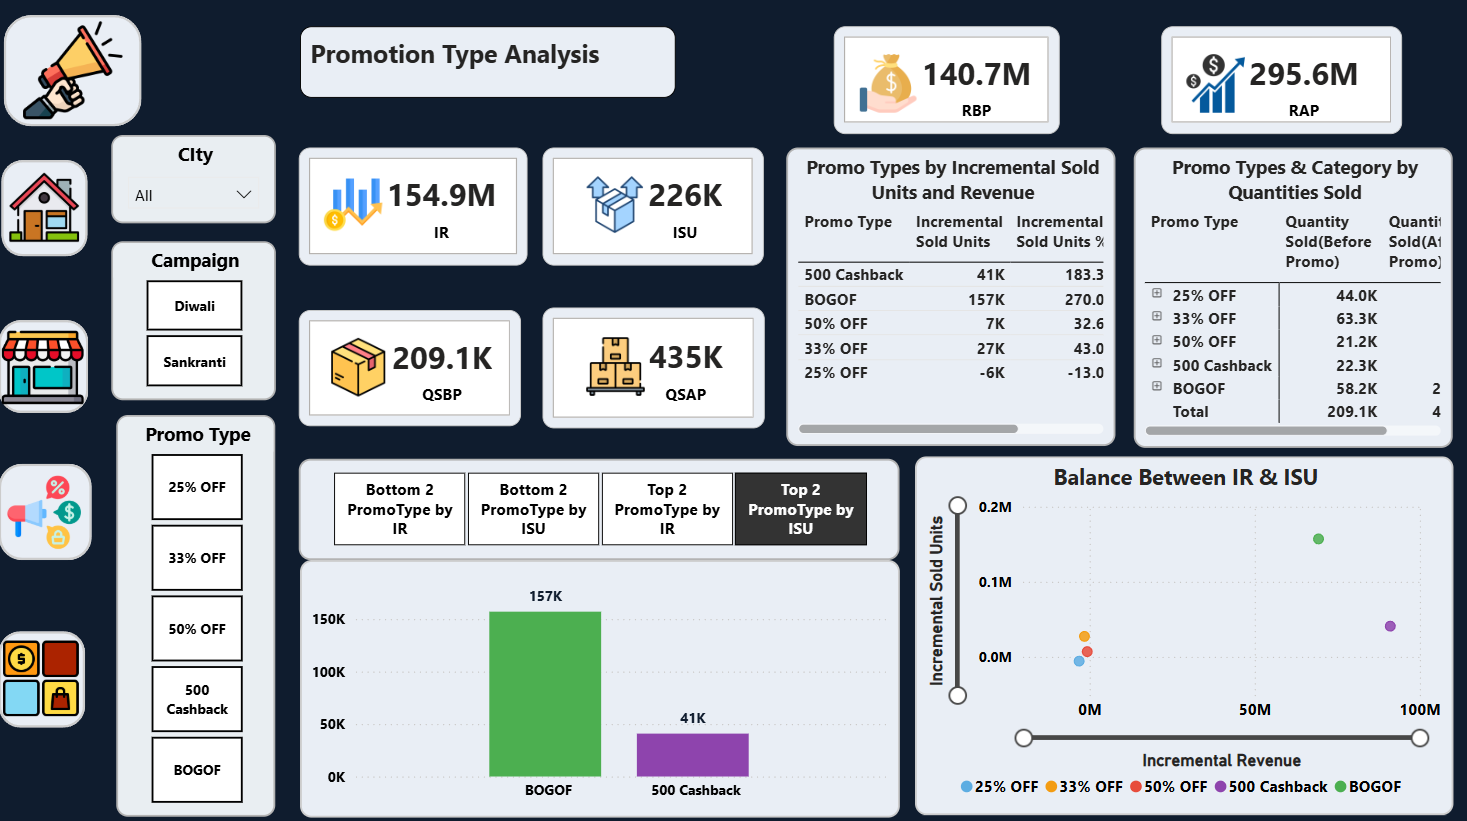

This screenshot's page, from the dashboard's own definition file:
{"tool":"powerbi","page":{"name":"Promotional Analysis","canvas":[1280,720],"ordinal":2},"visuals":[{"type":"shape","box":[11.4,17.1,118.6,95.7],"z":0,"group":"g2"},{"type":"cardVisual","fields":{"Data":["Project Measures.Revenue Before"]},"box":[725.7,27.1,194.3,92.9],"z":0},{"type":"slicer","fields":{"Values":["PromoViewSelector.ViewType"]},"box":[265.7,398.6,517.1,86.9],"z":0,"group":"g1"},{"type":"cardVisual","fields":{"Data":["Project Measures.Revenue After Promo"]},"box":[1007.1,27.1,207.1,92.9],"z":1000},{"type":"columnChart","fields":{"Category":["fact_events.promo_type"],"Y":["Project Measures.Dynamic Value"]},"box":[266.9,485.5,516,221.6],"z":1000,"group":"g1"},{"type":"cardVisual","fields":{"Data":["Project Measures.Incremental Revenue"]},"box":[265.7,131.4,197.1,101.4],"z":2000},{"type":"cardVisual","fields":{"Data":["Project Measures.Quantity Sold(Before Promo)"]},"box":[265.7,271.4,191.4,100],"z":3000},{"type":"cardVisual","fields":{"Data":["Project Measures.Quantity Sold After Promo"]},"box":[475.7,268.6,191.4,104.3],"z":4000},{"type":"cardVisual","fields":{"Data":["Project Measures.Incremental Sold Units"]},"box":[475.7,131.4,190,101.4],"z":5000},{"type":"tableEx","title":"Promo Types by Incremental Sold Units and Revenue","fields":{"Values":["fact_events.promo_type","Project Measures.Incremental Sold Units","Project Measures.Incremental Sold Units %","Project Measures.Incremental Revenue"]},"box":[685.3,131.5,283.5,257],"z":6000},{"type":"pivotTable","title":"Promo Types & Category by Quantities Sold","fields":{"Rows":["fact_events.promo_type","dim_products.category"],"Values":["Project Measures.Quantity Sold(Before Promo)","Project Measures.Quantity Sold(After Promo)"]},"box":[984.3,131.4,274.3,258.6],"z":7000},{"type":"scatterChart","title":"Balance Between IR & ISU","fields":{"X":["Project Measures.Incremental Revenue"],"Y":["Project Measures.Incremental Sold Units"],"Series":["fact_events.promo_type"]},"box":[795.7,397.1,462.9,308.6],"z":8000},{"type":"slicer","title":"Promo Type","fields":{"Values":["fact_events.promo_type"]},"box":[108.6,361.4,137.1,345.7],"z":9000},{"type":"slicer","title":"Campaign","fields":{"Values":["dim_campaign.campaign_name"]},"box":[104.3,211.4,141.4,137.1],"z":10000},{"type":"textbox","box":[267.1,27.1,322.9,61.4],"z":11000},{"type":"image","box":[20.4,17.1,101.6,95.7],"z":12000,"group":"g2"},{"type":"slicer","title":"CIty","fields":{"Values":["dim_stores.city"]},"box":[104.3,120,141.4,75.7],"z":12000},{"type":"group","id":"g1","title":"Group 1","box":[265.7,398.6,517.1,308.6],"z":13000},{"type":"shape","box":[7.1,547.1,74.3,82.9],"z":14000},{"type":"shape","box":[7.1,402.9,80,82.9],"z":15000},{"type":"shape","box":[7.1,280,77.1,80],"z":16000},{"type":"image","box":[5.7,280,80,81.4],"z":17000},{"type":"image","box":[8.6,408.6,75.7,72.9],"z":18000},{"type":"image","box":[5.7,550,77.1,77.1],"z":19000},{"type":"shape","box":[10,141.4,74.3,82.9],"z":20000},{"type":"image","box":[11.4,145.7,70,72.9],"z":21000},{"type":"group","id":"g2","title":"Group 1","box":[11.4,17.1,118.6,95.7],"z":22000}]}

Visuals, with their boxes in screenshot pixels (x1, y1, x2, y2), scaled from the page's 1280x720 canvas onto the 1467x821 screenshot:
shape: box=[13, 19, 149, 129]
cardVisual - Project Measures.Revenue Before: box=[832, 31, 1054, 137]
slicer - PromoViewSelector.ViewType: box=[305, 455, 897, 554]
cardVisual - Project Measures.Revenue After Promo: box=[1154, 31, 1392, 137]
columnChart - fact_events.promo_type x Project Measures.Dynamic Value: box=[306, 554, 897, 806]
cardVisual - Project Measures.Incremental Revenue: box=[305, 150, 530, 265]
cardVisual - Project Measures.Quantity Sold(Before Promo): box=[305, 309, 524, 423]
cardVisual - Project Measures.Quantity Sold After Promo: box=[545, 306, 765, 425]
cardVisual - Project Measures.Incremental Sold Units: box=[545, 150, 763, 265]
"Promo Types by Incremental Sold Units and Revenue" tableEx: box=[785, 150, 1110, 443]
"Promo Types & Category by Quantities Sold" pivotTable: box=[1128, 150, 1442, 445]
"Balance Between IR & ISU" scatterChart: box=[912, 453, 1442, 805]
"Promo Type" slicer: box=[124, 412, 282, 806]
"Campaign" slicer: box=[120, 241, 282, 397]
textbox: box=[306, 31, 676, 101]
image: box=[23, 19, 140, 129]
"CIty" slicer: box=[120, 137, 282, 223]
"Group 1" group: box=[305, 455, 897, 806]
shape: box=[8, 624, 93, 718]
shape: box=[8, 459, 100, 554]
shape: box=[8, 319, 97, 410]
image: box=[7, 319, 98, 412]
image: box=[10, 466, 97, 549]
image: box=[7, 627, 95, 715]
shape: box=[11, 161, 97, 256]
image: box=[13, 166, 93, 249]
"Group 1" group: box=[13, 19, 149, 129]
